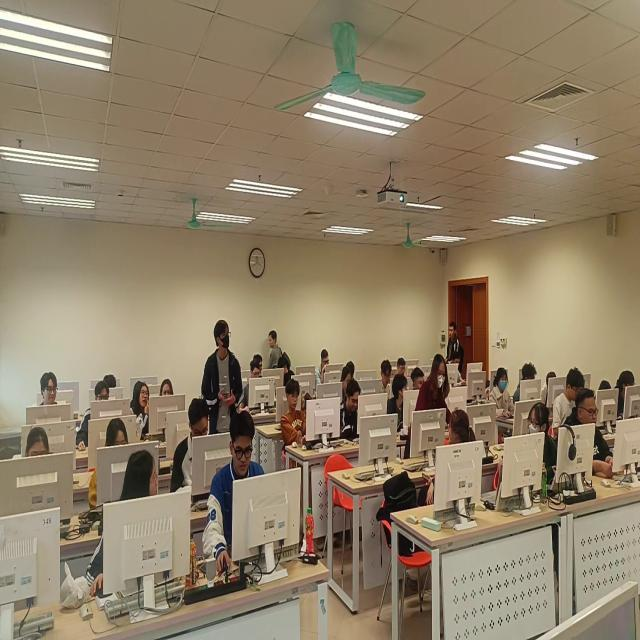raise_head: (131, 384, 151, 441), (160, 380, 174, 396)
stand: (405, 354, 453, 462), (202, 319, 245, 435), (447, 322, 465, 378), (268, 331, 285, 369)
using_computer: (203, 412, 266, 574), (564, 390, 615, 480), (171, 399, 211, 494), (90, 419, 130, 510), (77, 381, 110, 453), (552, 369, 586, 437), (281, 380, 307, 449), (490, 368, 516, 420), (342, 380, 362, 439), (614, 370, 637, 421), (514, 363, 538, 408), (245, 361, 263, 409), (26, 428, 51, 458), (39, 373, 59, 406), (541, 372, 558, 407), (316, 349, 330, 389), (380, 359, 393, 400), (595, 380, 613, 401), (342, 368, 353, 401), (411, 368, 426, 390), (104, 375, 117, 389), (398, 359, 407, 375), (347, 362, 356, 375)
